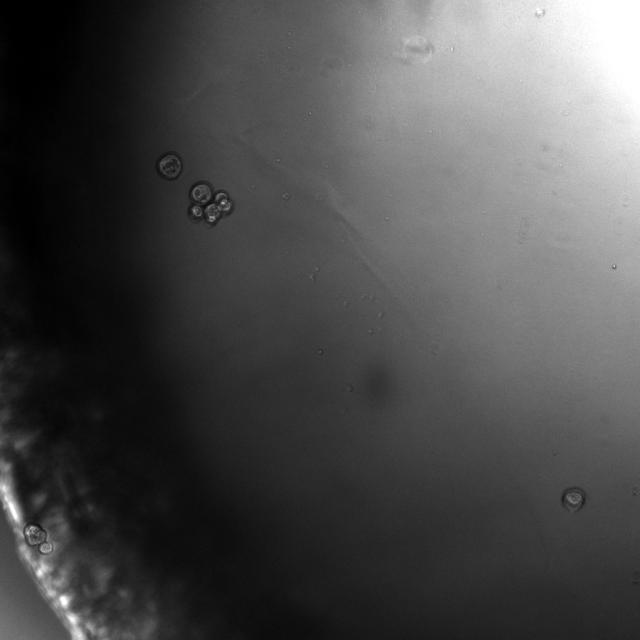organoid: (188, 181, 232, 225), (24, 523, 53, 554), (156, 152, 183, 179), (562, 488, 584, 512)
